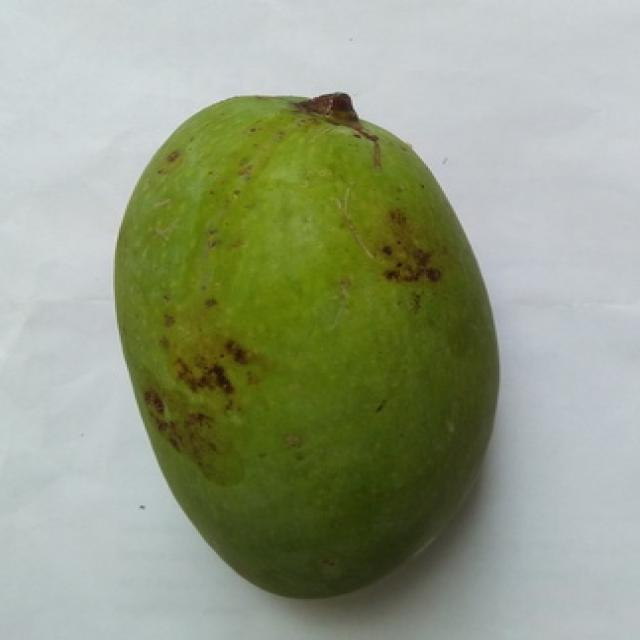Mango: (115, 94, 495, 596)
